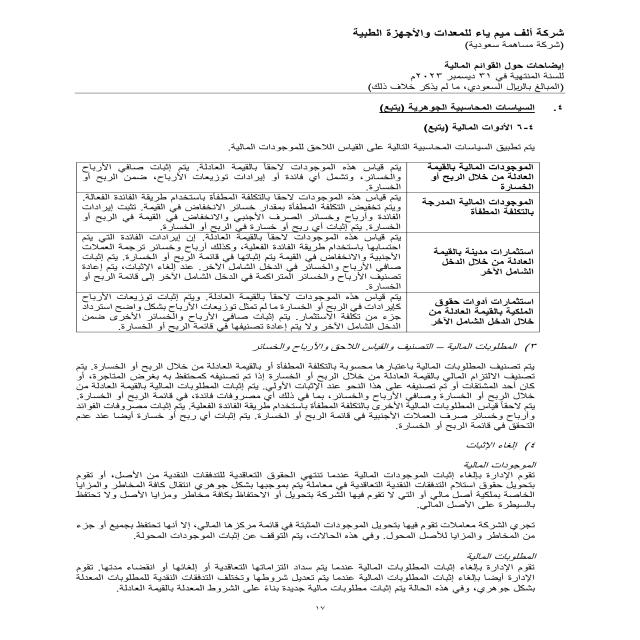notes: (437, 60, 566, 71)
table: (67, 155, 544, 336)
